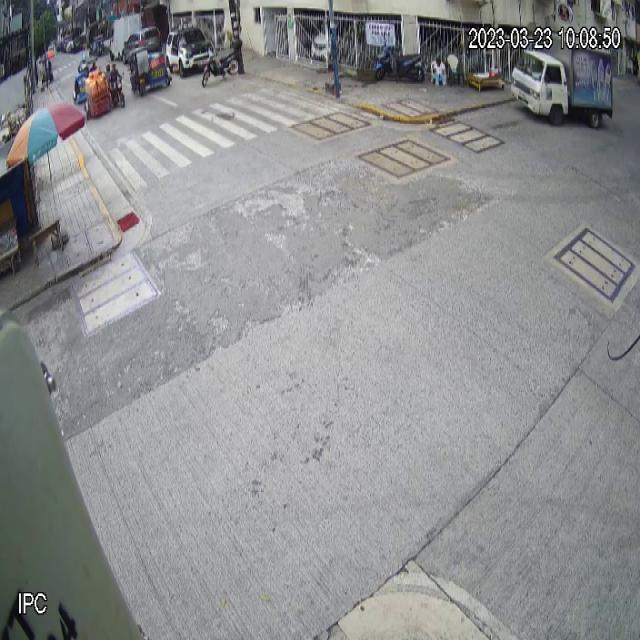Truck: (511, 33, 614, 127)
